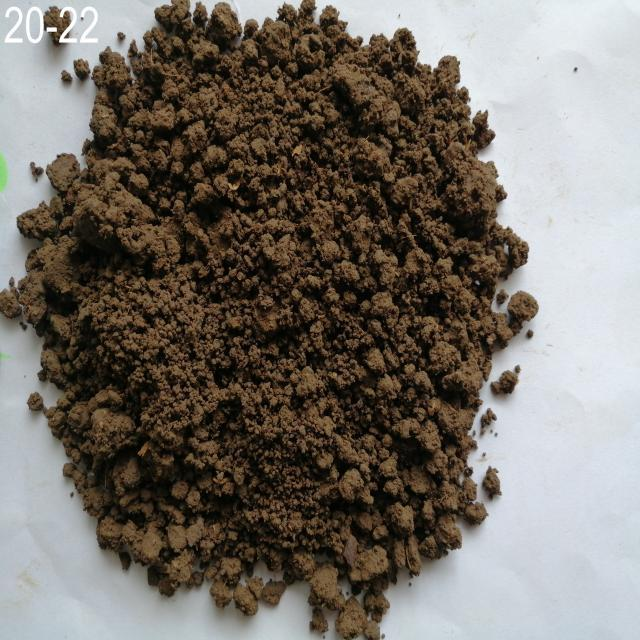soil: (126, 132, 444, 538)
